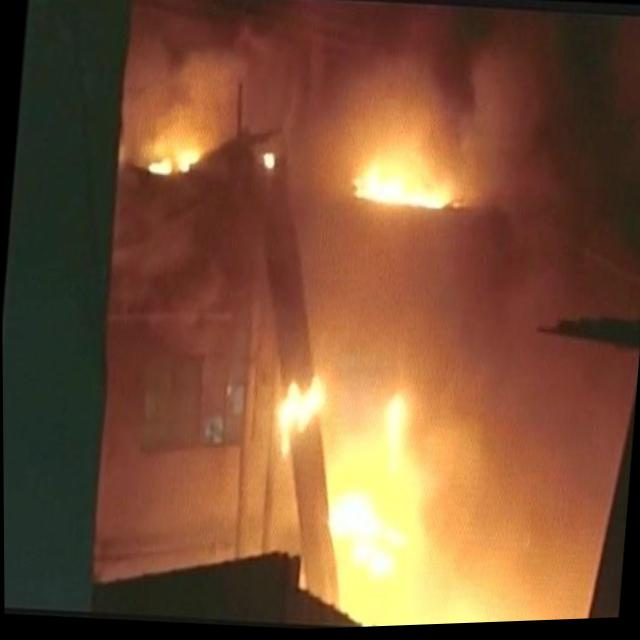fire: (339, 138, 470, 237), (317, 482, 414, 597), (371, 380, 429, 498), (264, 364, 331, 465), (143, 127, 209, 188)
